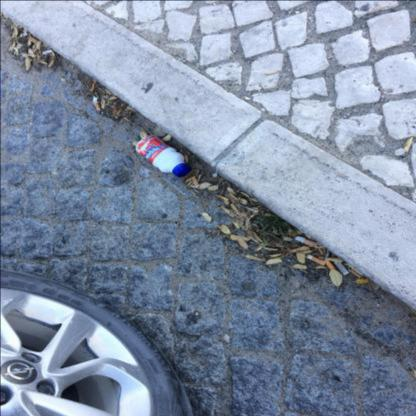Bottle: (173, 165, 190, 177)
Bottle cap: (136, 135, 191, 177)
Cigarette: (294, 236, 318, 247), (305, 254, 325, 266), (333, 261, 349, 274), (92, 96, 101, 110), (324, 260, 336, 270), (192, 176, 200, 188), (42, 49, 52, 55), (91, 83, 96, 93)
